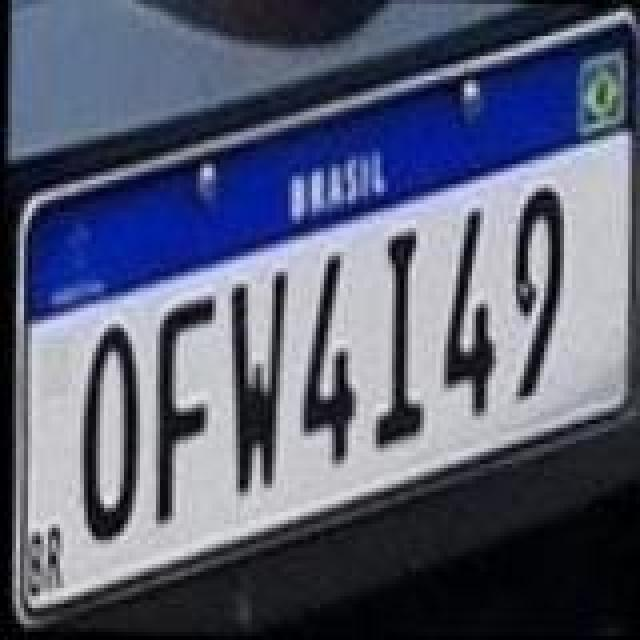4: (294, 248, 362, 468), (434, 206, 502, 422)
9: (506, 180, 574, 404)
F: (146, 286, 222, 526)
I: (368, 224, 432, 452)
O: (72, 318, 148, 546)
W: (218, 266, 294, 498)
